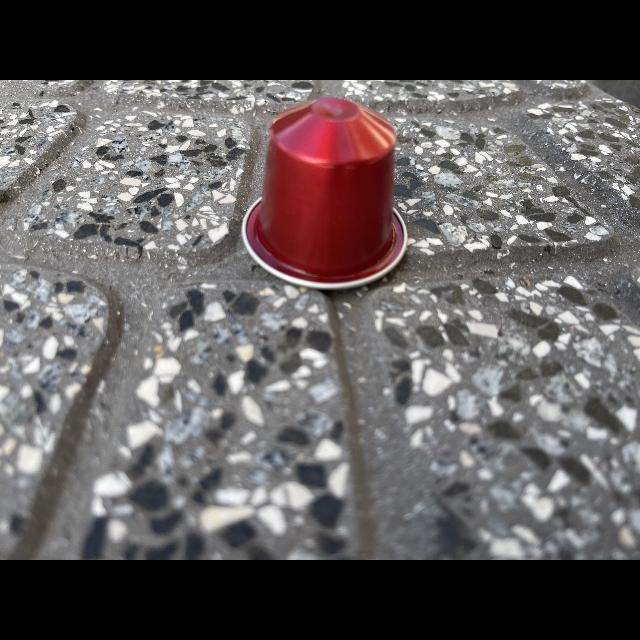intact_capsule: (227, 92, 423, 298)
